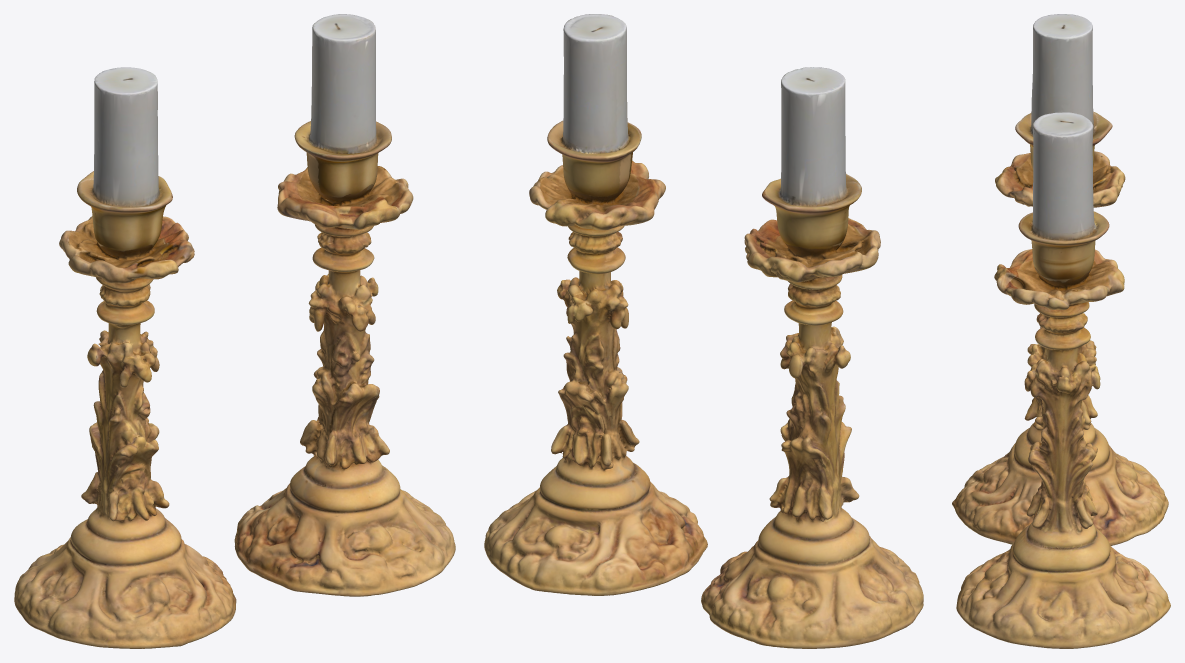
Rendered from Meshy_AI_Short_European_stlyed_0330052124_texture.glb.
The picture shows the model from 3 angles, left to right: view 1: azimuth 30°, elevation 25°; view 2: azimuth 150°, elevation 25°; view 3: azimuth 270°, elevation 25°; orthographic projection. The views are drawn at different scales.
Bounding box in the file's own units: 1.65 × 2 × 0.8228.
Materials: 1 (1 with a texture image).
